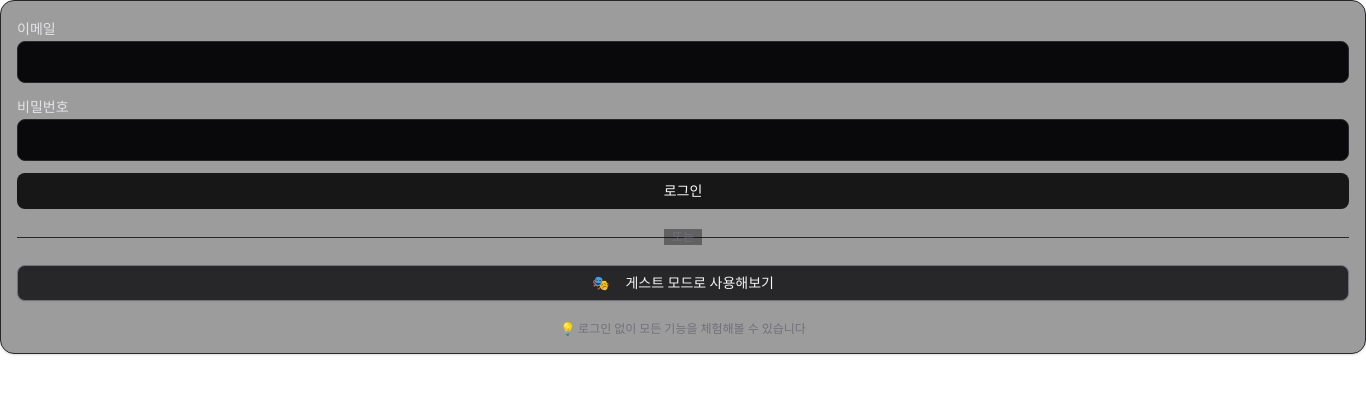
Test case: LoginForm 컴포넌트 › 폼 제출 › 알 수 없는 에러가 발생하면 기본 메시지를 표시한다
This screenshot has width=1366, height=404.
In the field: coordinates (683, 62) [17,41,1349,83], type "test@example.com"
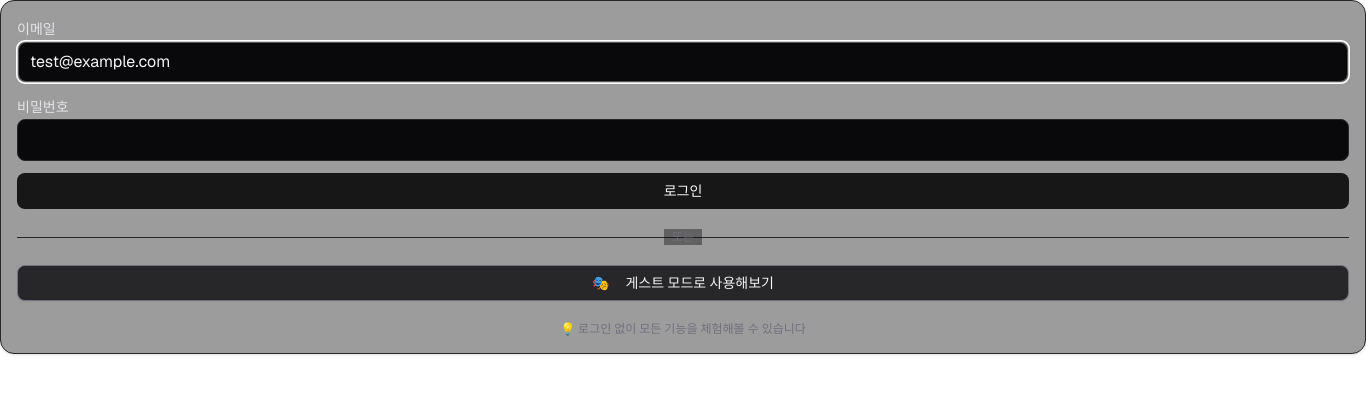
In the password field: coordinates (683, 140) [17,119,1349,161], type "password123"
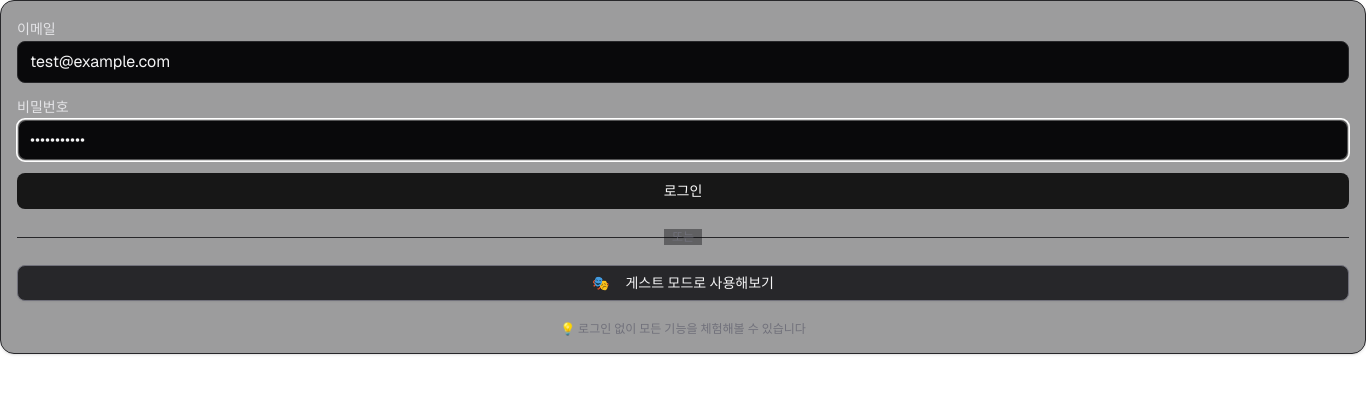
Click the button "로그인": coordinates (683, 191) [17,173,1349,209]
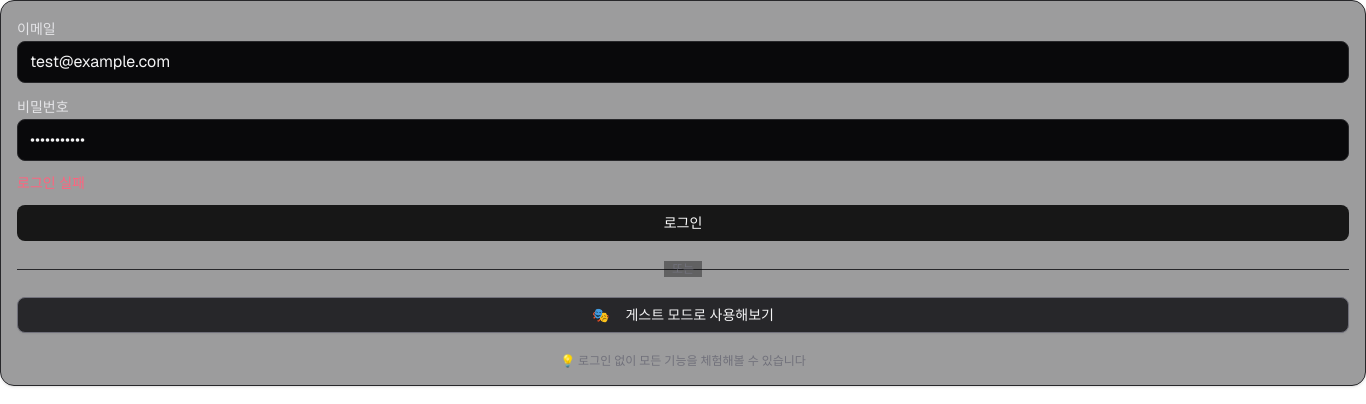
Expected: the text "로그인 실패" is shown, [17,174,85,192]
